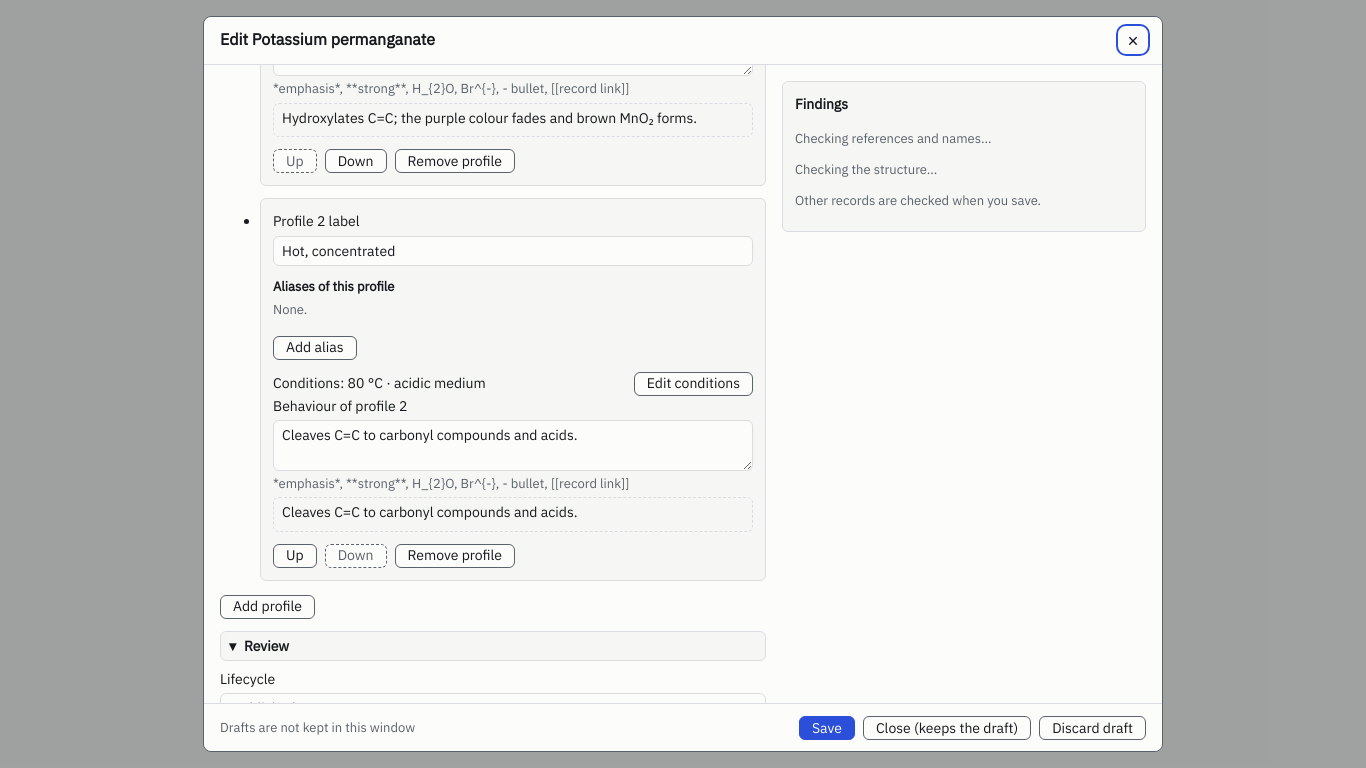
it: the shared conditions form inside a profile › edits the temperature of profile 2 (80 °C to 95 °C); the line follows at once; the other profile is untouched
(page scrolled)
Click the button with aria-label "Edit conditions of profile 2": (693, 384) left=634, top=372, right=753, bottom=396
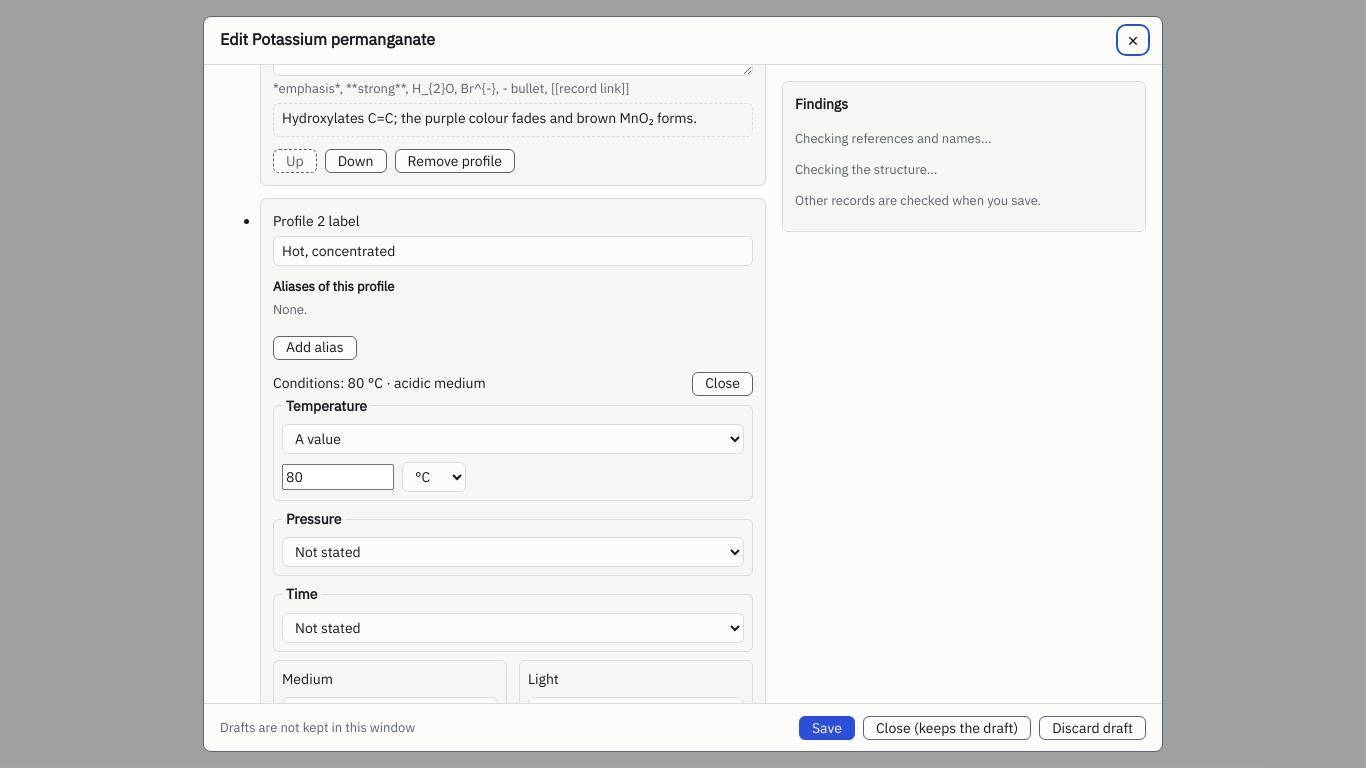
Replace the text in the number field named "Temperature value of profile 2" with "95": (338, 477) left=282, top=464, right=394, bottom=490
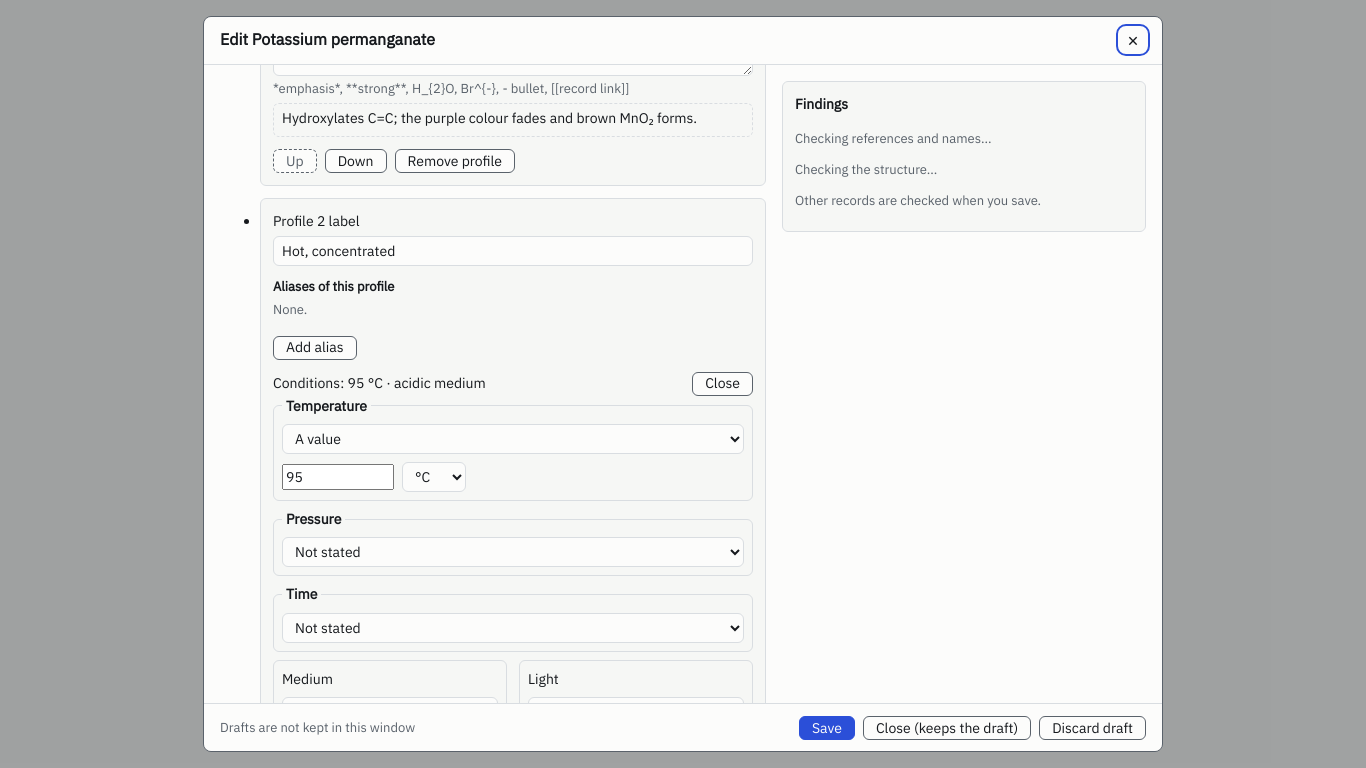
Check: the text with test id "profile-conditions" shows "95", box left=348, top=374, right=486, bottom=392
